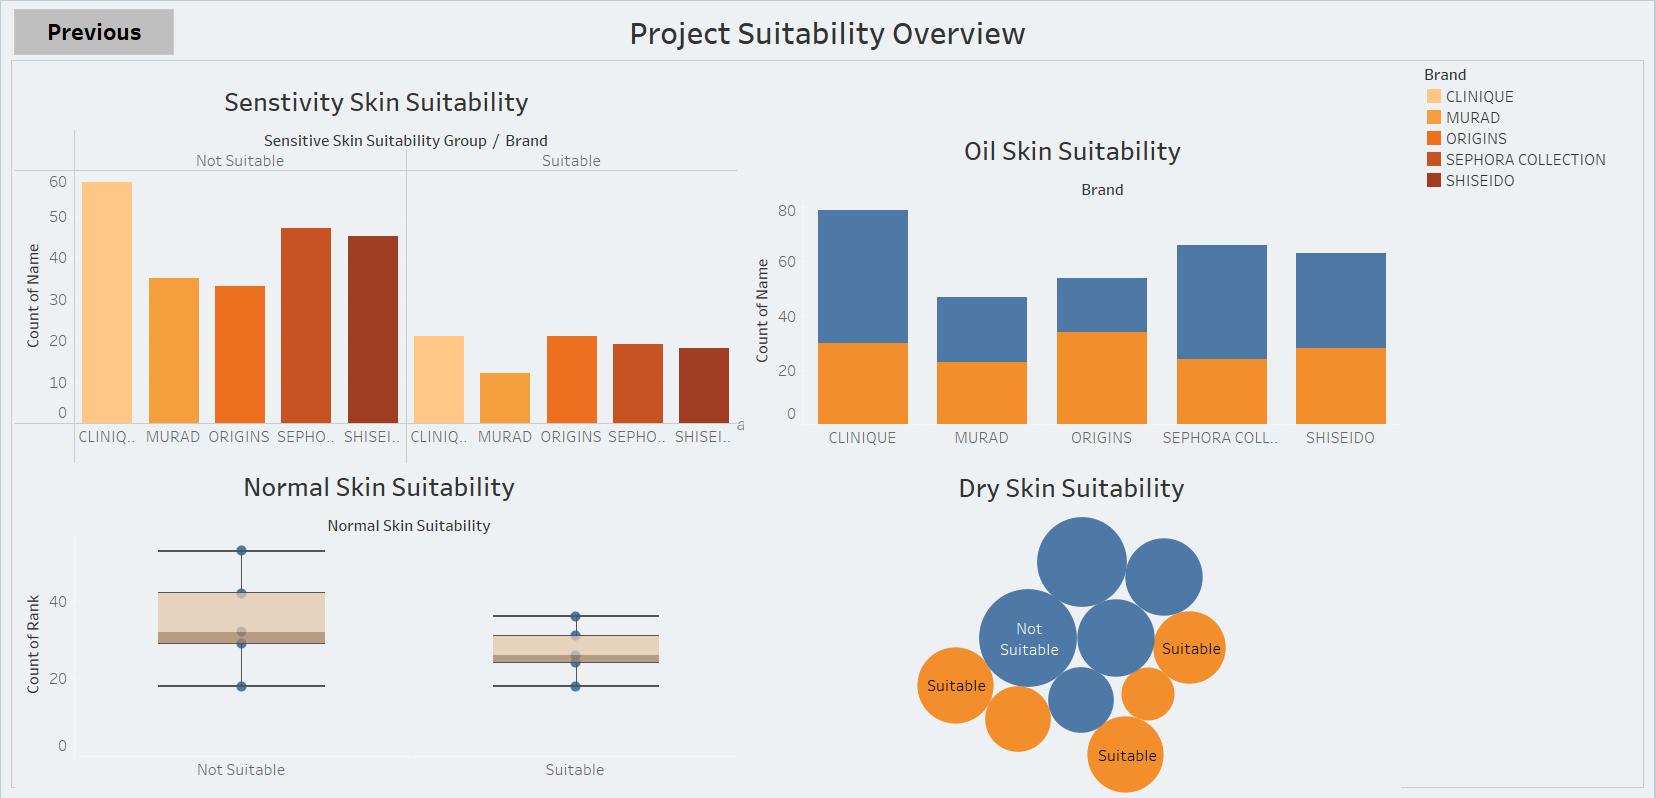

What the dashboard file says about the page in this screenshot:
{"tool":"tableau","page":{"name":"Dashboard 2","canvas":[1000,1000],"units":"permille","ordinal":1},"visuals":[{"type":"title","box":[4.7,10,990.6,61.2]},{"type":"dashboard-object","box":[8.8,12.5,96.8,57.4]},{"type":"image","box":[4.7,71.2,990.6,918.8]},{"type":"legend","title":"Sensitive Skin Suitability","param":"[federated.1jpsdiz1sz7fny18u9vko0jm32ra].[none:Brand:nk]","box":[860.1,81.2,136.4,245.9]},{"type":"worksheet","title":"Sensitive Skin Suitability","mark":"Automatic","rows":["Name"],"cols":["Calculation_28428999141494787","Brand"],"box":[9.4,101.1,436.2,479.4]},{"type":"worksheet","title":"Oil Skin Suitability","mark":"Automatic","rows":["Name"],"cols":["Brand"],"box":[449.7,162.3,396.2,418.2]},{"type":"worksheet","title":"Normal Skin Suitability","mark":"Circle","rows":["Rank"],"cols":["Calculation_28428999142686724"],"box":[9.7,581.5,439.1,413.4]},{"type":"worksheet","title":"Dry Skin Suitability","mark":"Circle","box":[448.6,583,397.4,408.2]}]}

Visuals, with their boxes on the dashboard's canvas, which has no fixed pixel size, in thousandths of its width and height (x1, y1, x2, y2). These are canvas units, not pixel positions in the 1656x798 screenshot, which may show the page scaled, cropped or inside an application window:
title: crop(5, 10, 995, 71)
dashboard-object: crop(9, 12, 106, 70)
image: crop(5, 71, 995, 990)
"Sensitive Skin Suitability" legend: crop(860, 81, 996, 327)
"Sensitive Skin Suitability" worksheet: crop(9, 101, 446, 580)
"Oil Skin Suitability" worksheet: crop(450, 162, 846, 580)
"Normal Skin Suitability" worksheet (Circle marks): crop(10, 582, 449, 995)
"Dry Skin Suitability" worksheet (Circle marks): crop(449, 583, 846, 991)
